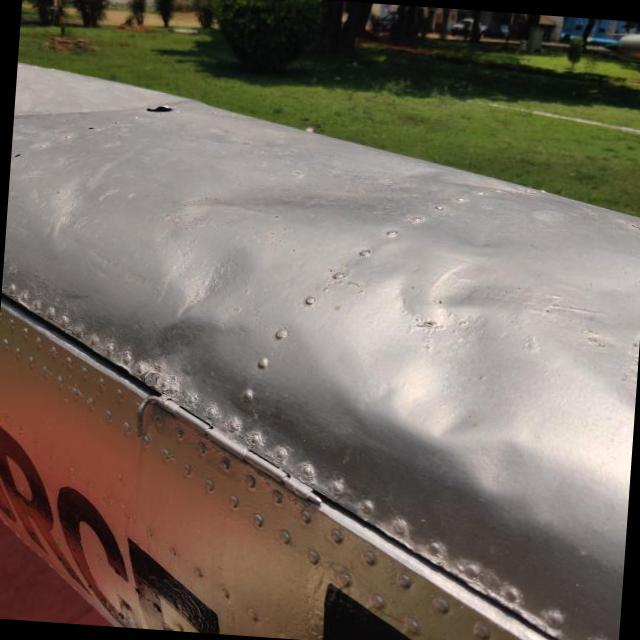dent: (322, 226, 562, 491), (196, 152, 408, 232), (152, 210, 266, 334)
